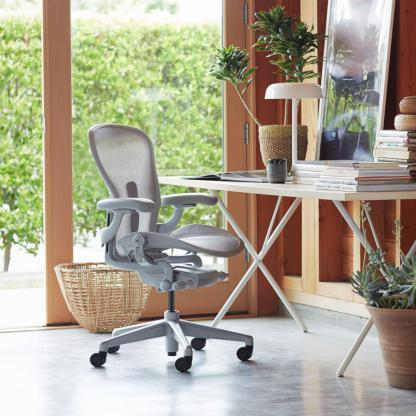chair: (86, 125, 265, 400)
door: (47, 0, 251, 318)
light: (260, 75, 327, 171)
table: (159, 164, 416, 274)
